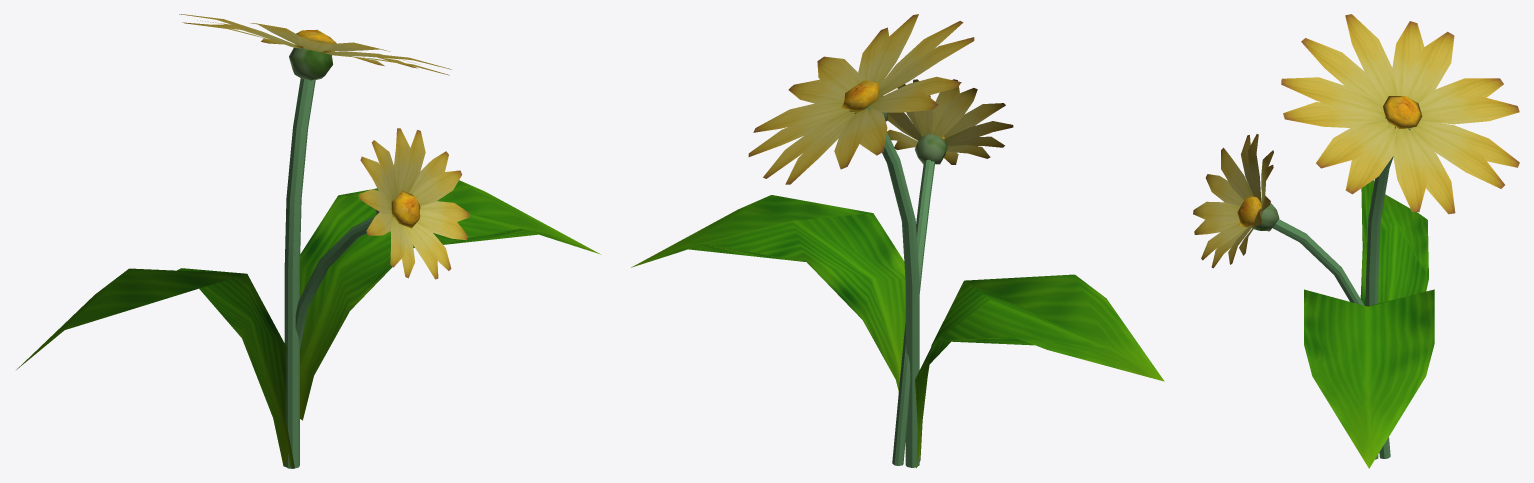
Rendered from YellowDaisy.fbx.
The picture shows the model from 3 angles, left to right: view 1: azimuth 30°, elevation 25°; view 2: azimuth 150°, elevation 25°; view 3: azimuth 270°, elevation 25°; orthographic projection. The views are drawn at different scales.
Parts seen in each view (by area): view 1: YellowDaisyFull; view 2: YellowDaisyFull; view 3: YellowDaisyFull.
Boxes of the visible parts, <box> form: YellowDaisyFull: <box>16,14,600,468</box>; YellowDaisyFull: <box>631,14,1164,468</box>; YellowDaisyFull: <box>1193,14,1519,468</box>.
Bounding box in the file's own units: 26.62 × 20.32 × 14.34.
Materials: 1 (1 with a texture image).
